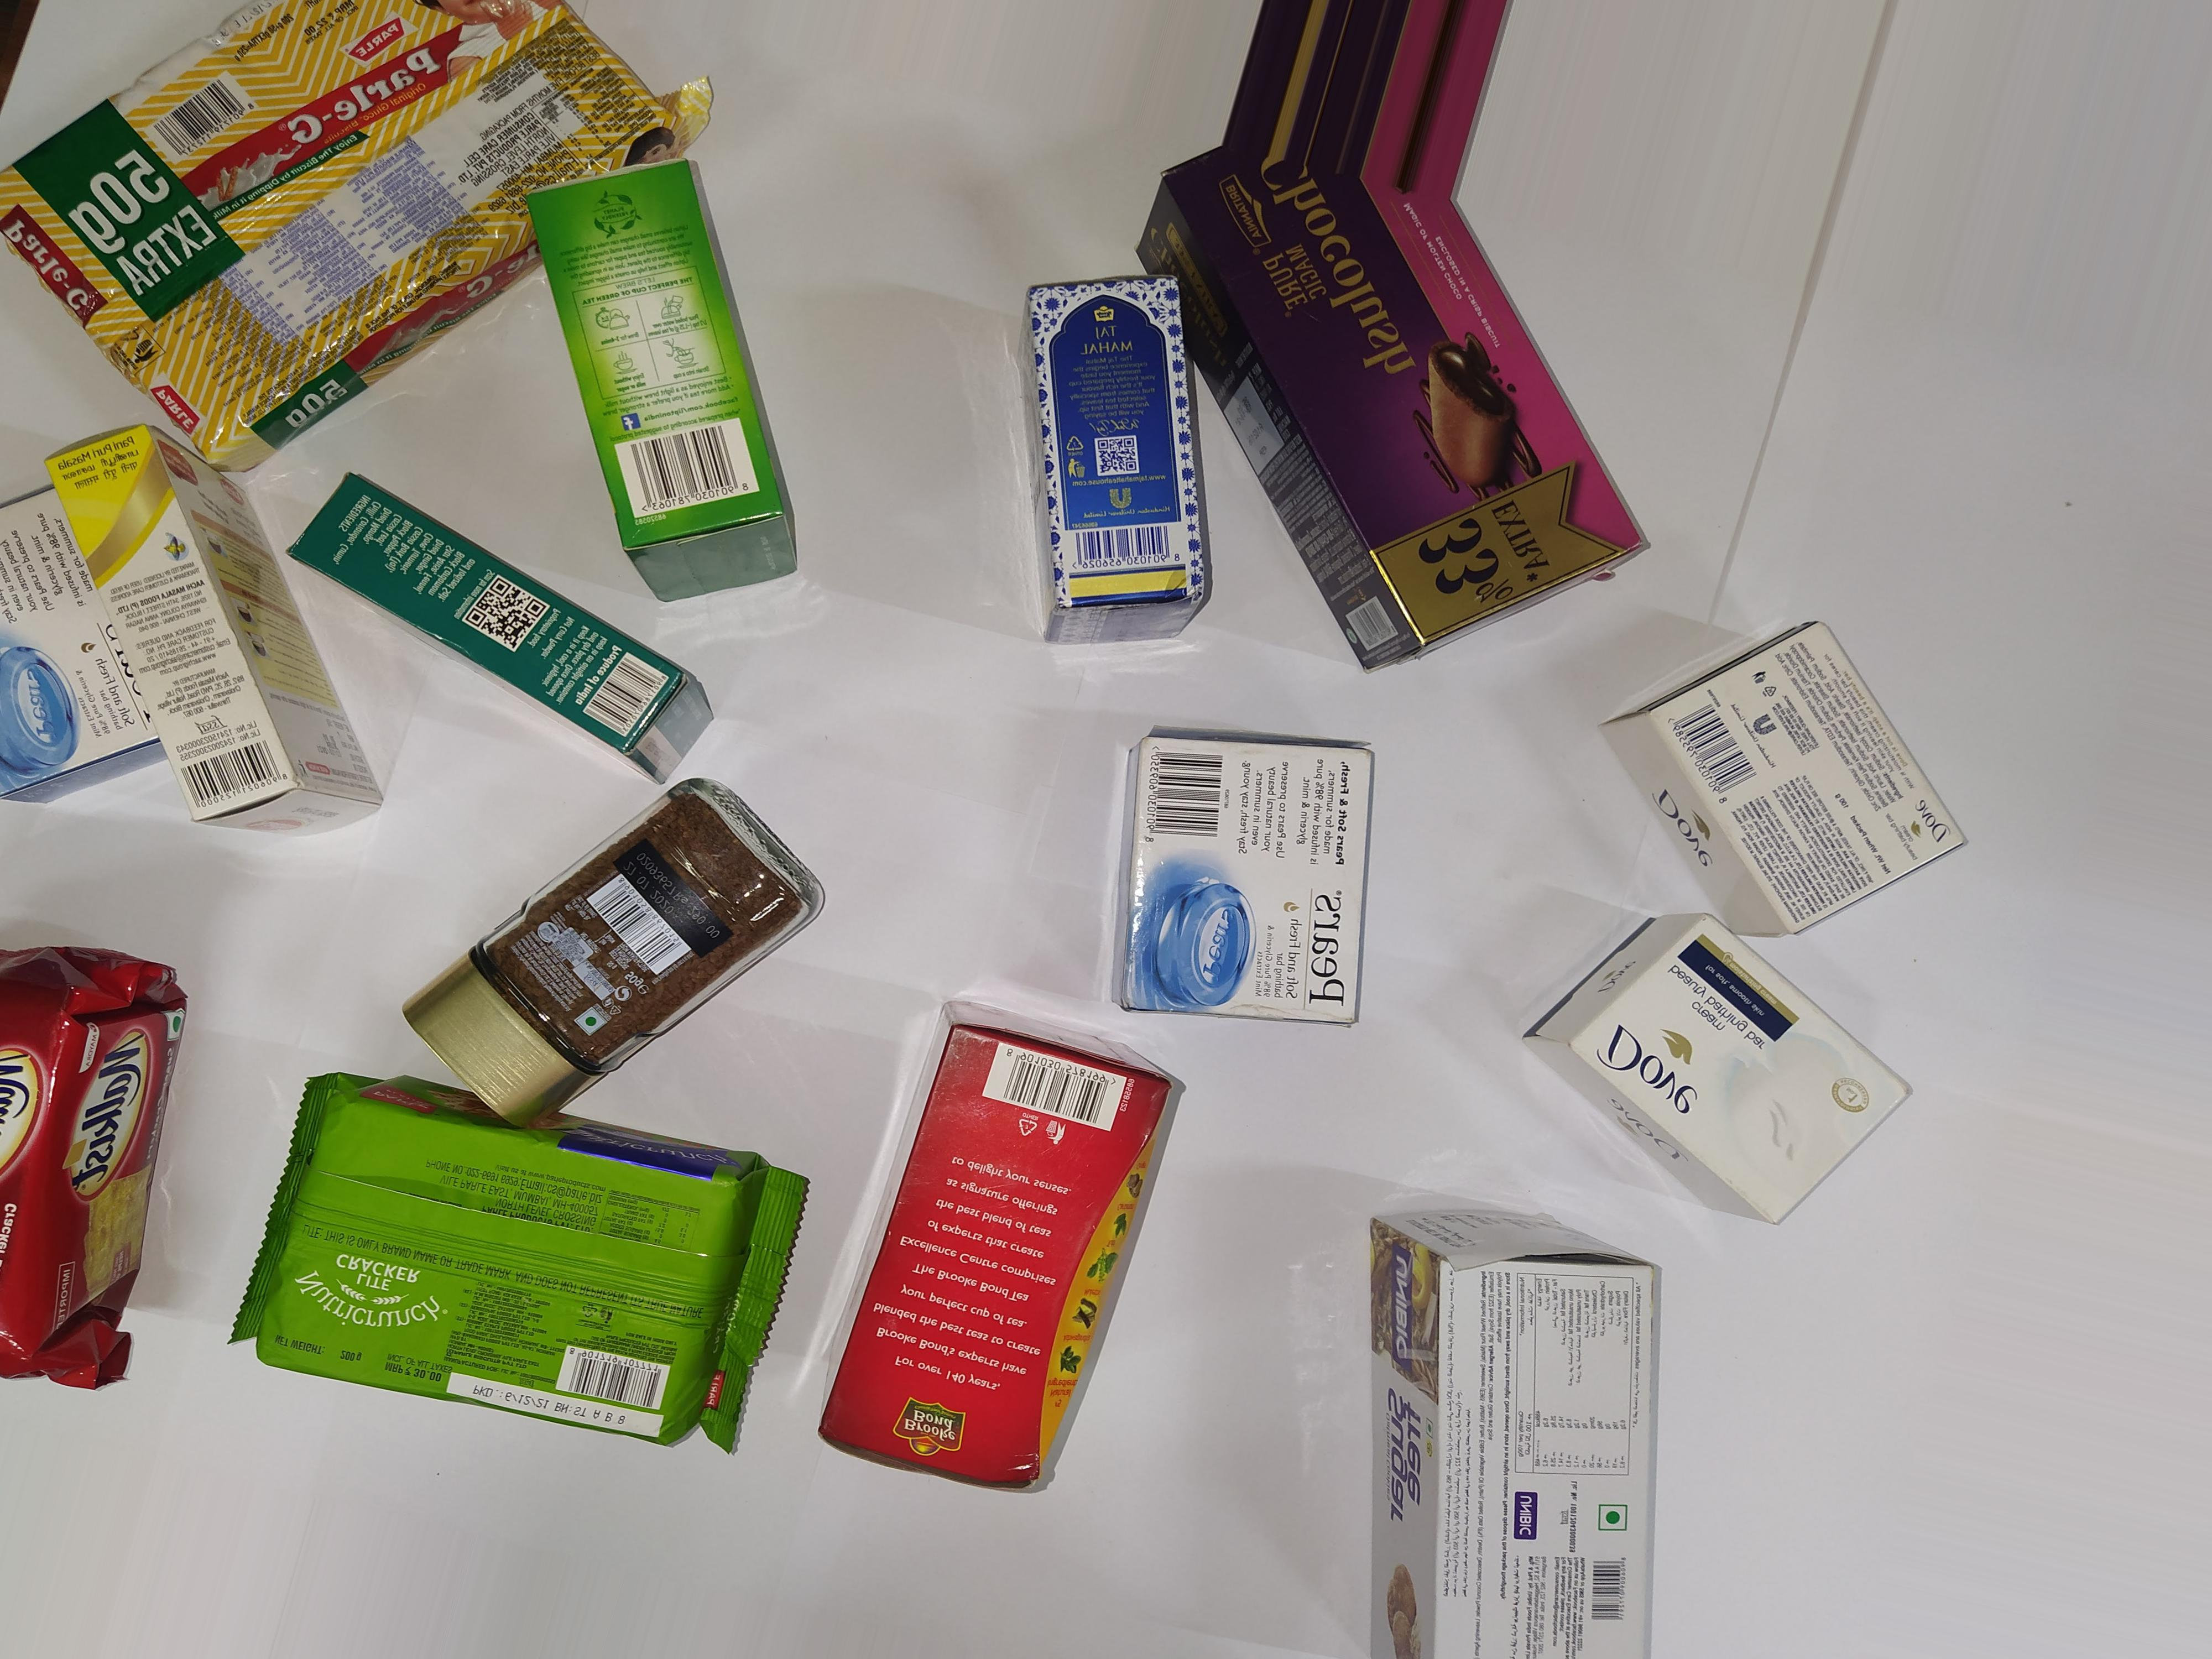Bar_code: (970, 1035, 1134, 1141), (571, 864, 702, 995), (617, 411, 761, 511), (164, 725, 312, 816), (1663, 681, 1764, 812), (570, 640, 681, 756), (542, 1335, 681, 1424), (1137, 730, 1226, 856), (141, 75, 272, 153), (1066, 512, 1193, 579), (1580, 1542, 1632, 1638)
Item: (0, 0, 698, 453), (1153, 101, 1665, 680), (1327, 1180, 1799, 1659), (263, 1068, 796, 1490), (827, 981, 1198, 1516), (45, 420, 392, 856), (291, 451, 737, 777), (502, 157, 833, 594), (1533, 908, 1918, 1262), (1618, 598, 1986, 960), (418, 789, 855, 1091), (1066, 701, 1411, 1060), (0, 918, 197, 1427), (1001, 270, 1221, 659)
QR_code: (460, 565, 547, 662), (1087, 430, 1144, 479)
